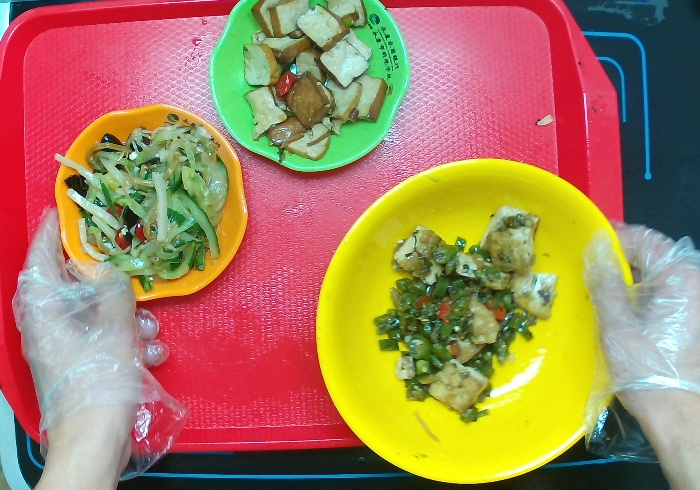YKMZ-Huang_Se_Tang_Wan: (312, 158, 638, 486)
YKMZ-Ju_Se_Ao_Bian_Wan: (54, 104, 249, 306)
YKMZ-Lv_Se_Ao_Bian_Wan: (205, 1, 409, 170)
